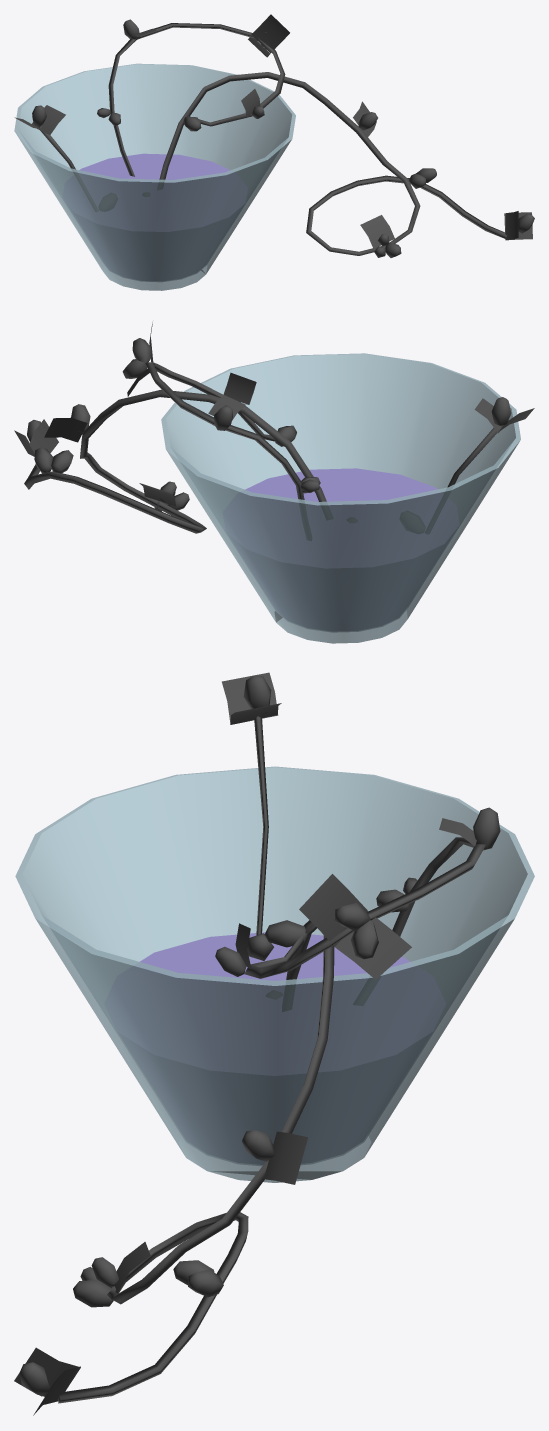
File: ZWHH02.FBX
3 renders of one model, top to bottom at view 1: azimuth 30°, elevation 25°; view 2: azimuth 150°, elevation 25°; view 3: azimuth 270°, elevation 25°, orthographic. The views are drawn at different scales.
Visible parts, largest first — view 1: ZWHH02; view 2: ZWHH02; view 3: ZWHH02.
Part boxes in pixels (x1=…): ZWHH02: x1=14, y1=14, x2=534, y2=290; ZWHH02: x1=14, y1=322, x2=534, y2=643; ZWHH02: x1=14, y1=672, x2=534, y2=1415.
Size of the model in its own units: 25.5 by 13.7 by 11.2.
